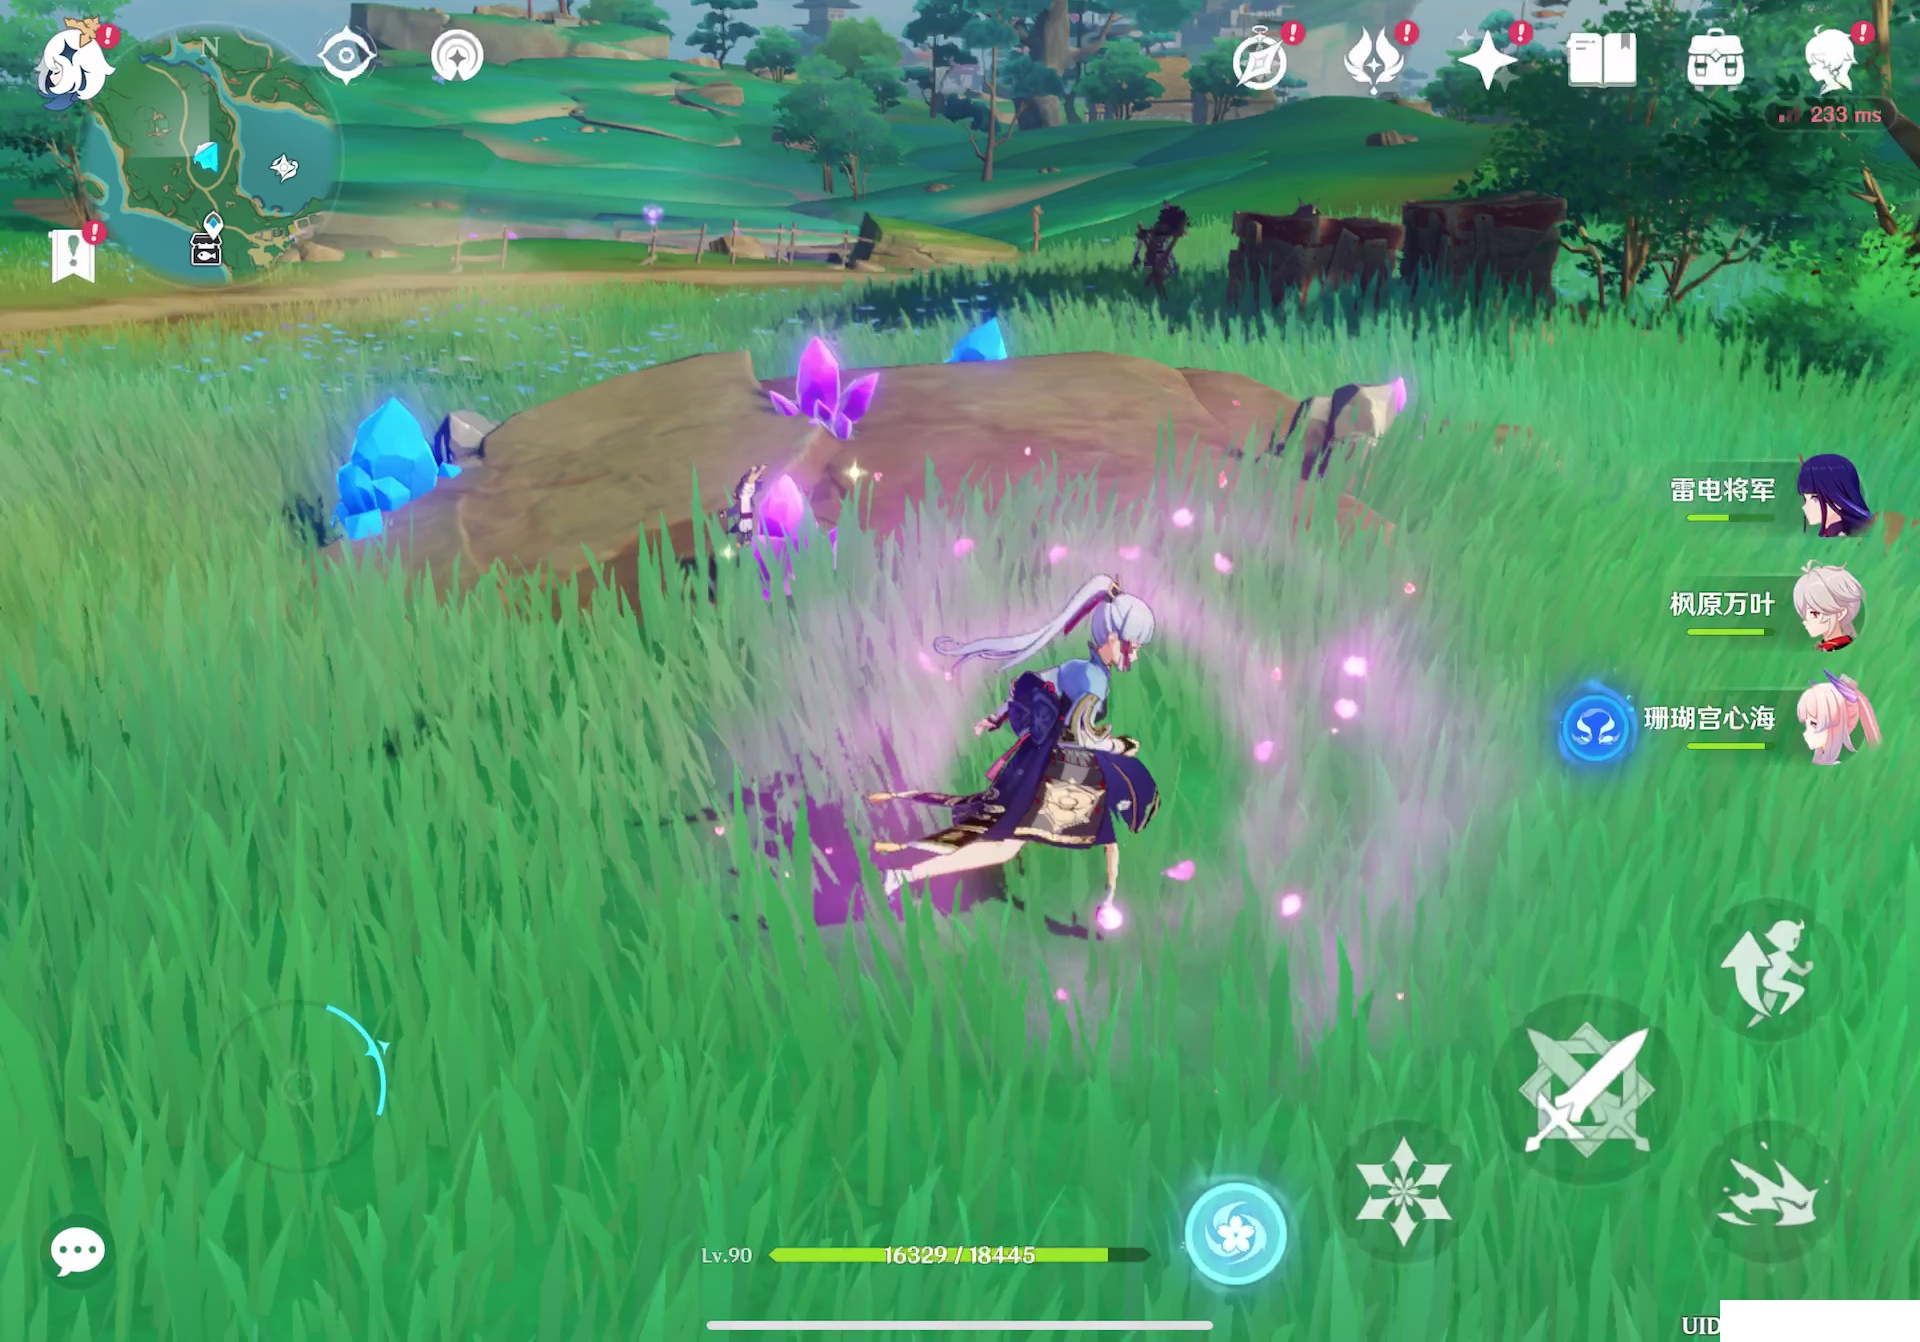白铁矿石: (1275, 387, 1399, 480), (439, 408, 492, 459)
神里绫龟: (956, 565, 1172, 929)
紫矿石: (773, 335, 872, 448), (732, 486, 835, 586)
蓝矿石: (333, 410, 430, 534), (942, 322, 1014, 363)
